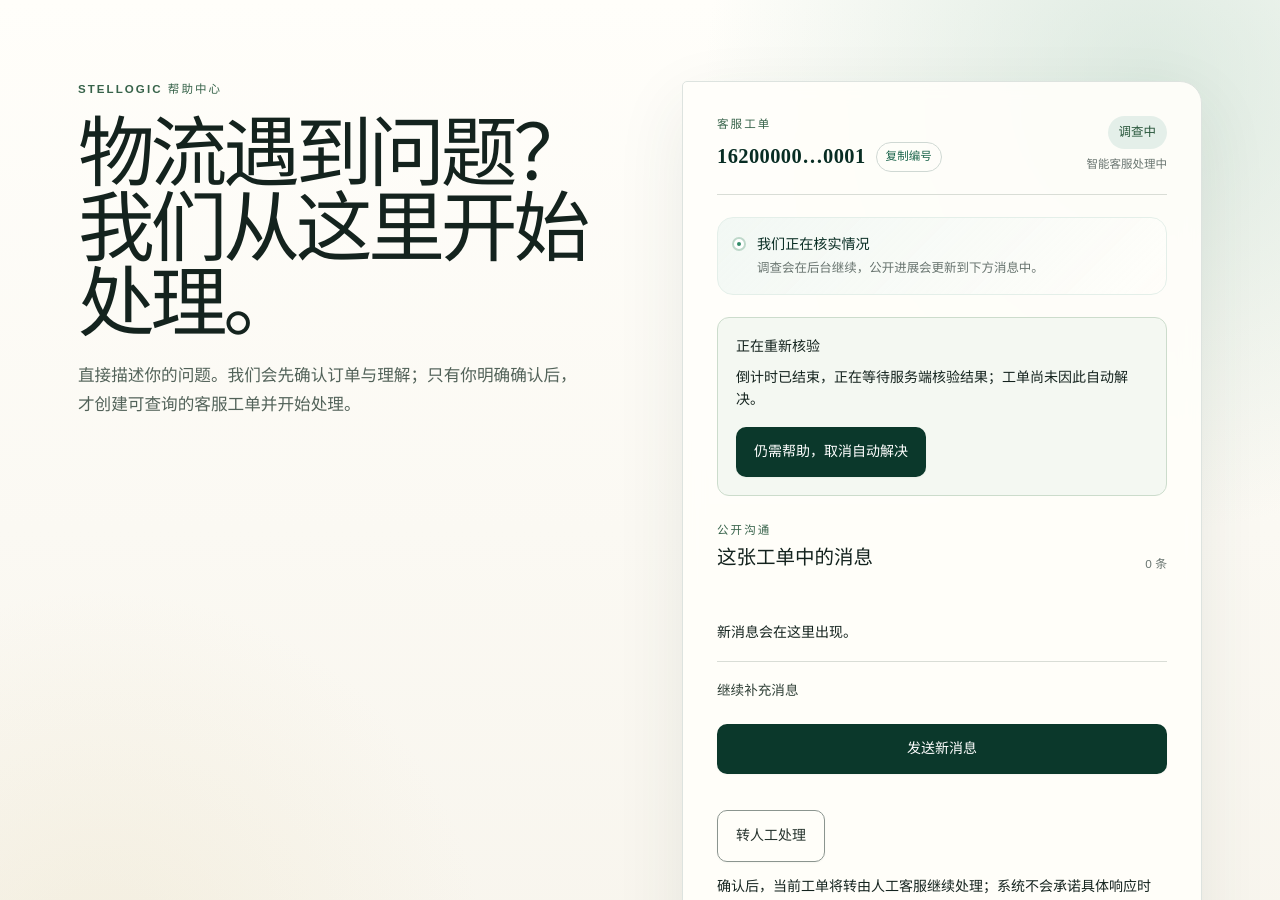
Test: Issue #162 客户自动解决 › 取消带候选期限及 CSRF，响应 200 后重新读取权威状态
Click the button "仍需帮助，取消自动解决": (831, 452) [736, 427, 926, 476]
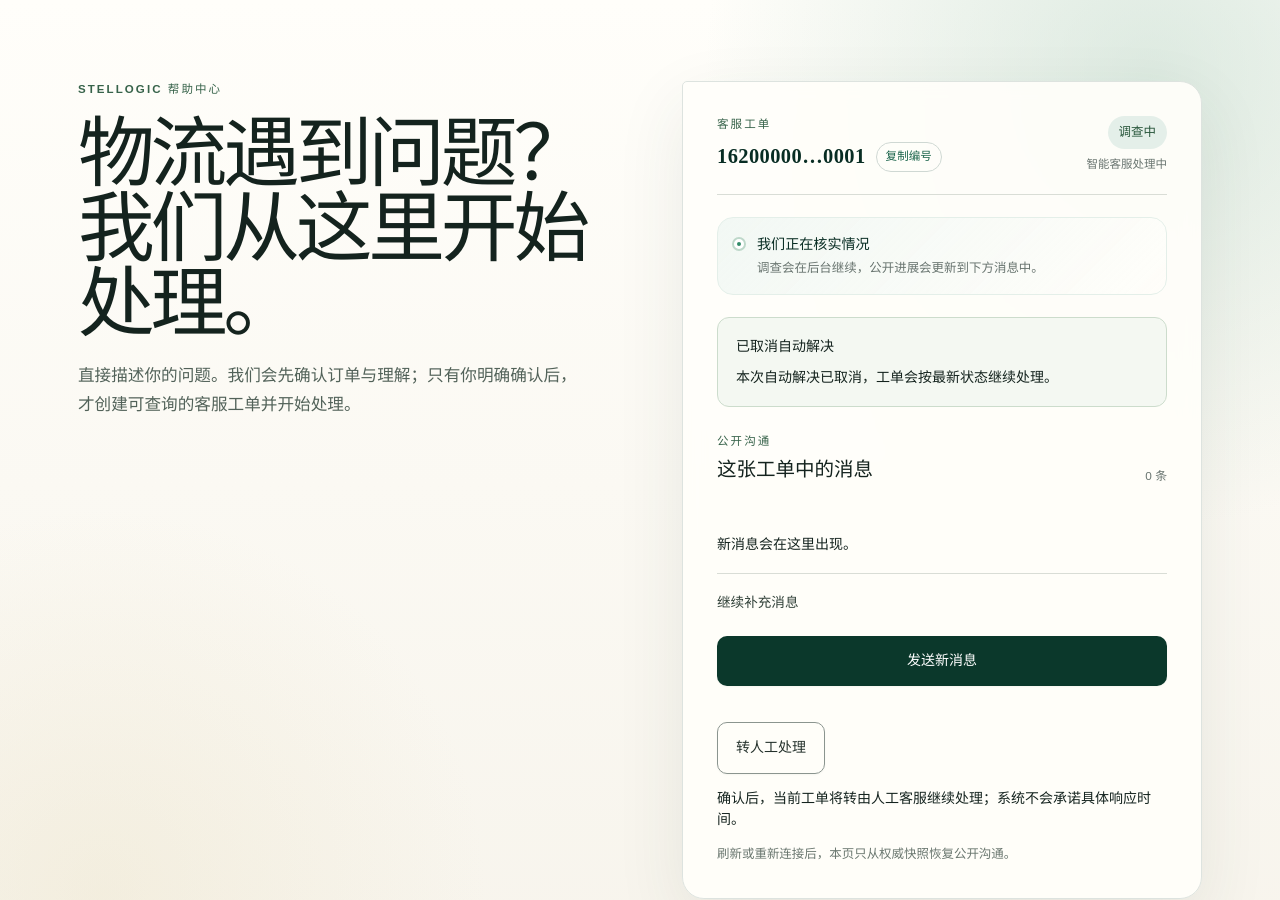
Expected: the text "已取消自动解决" is shown, [736, 338, 834, 354]
Expected: the button "仍需帮助，取消自动解决" is gone
